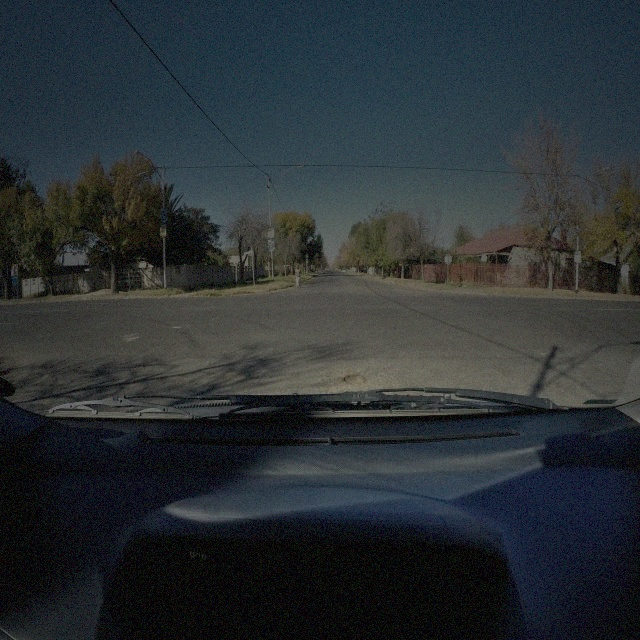pothole: (344, 372, 365, 387)
